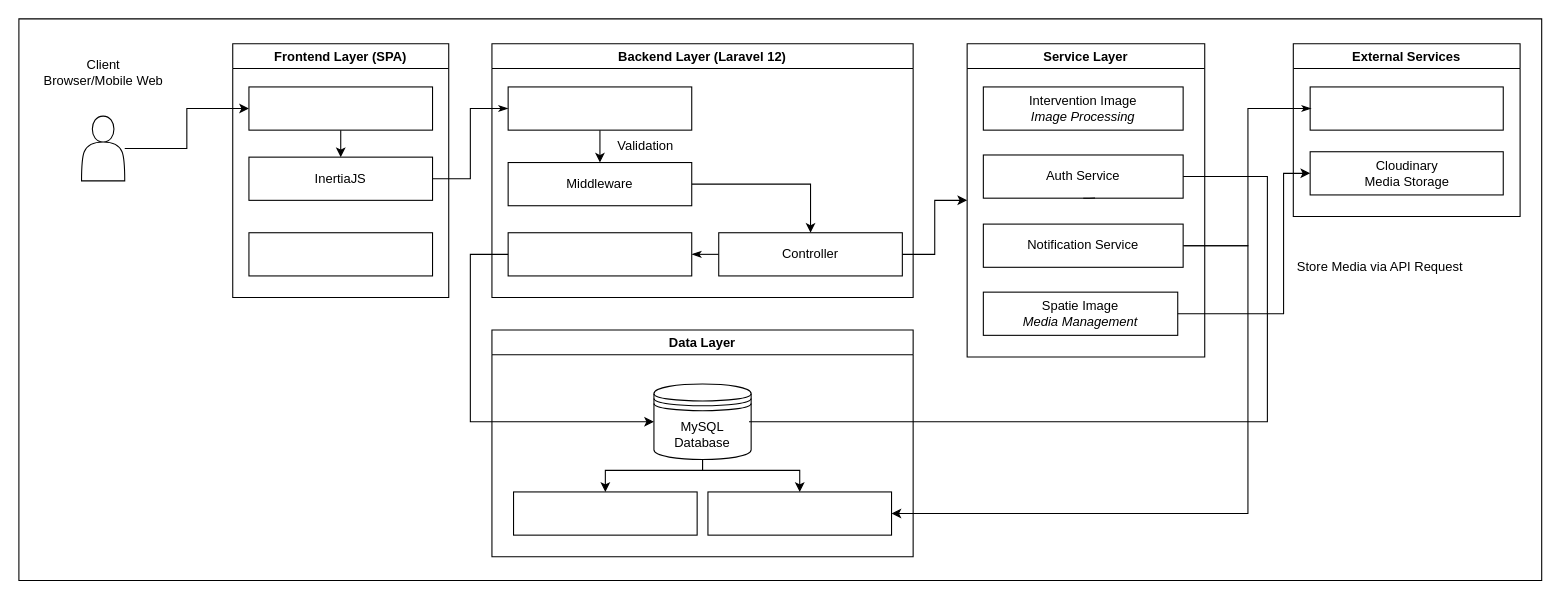
This 1561x599 diagram has some shape labels left out. Here are the shapes that lost their labels. From the top down, the centre of each, then its label:
At pixel 340 108: "ReactJS".
At pixel 599 108: "API Route".
At pixel 1406 108: "Email Services Memory Reminder Notifications".
At pixel 340 254: "TailwindCSS".
At pixel 599 254: "Models".
At pixel 604 513: "Redis Cache".
At pixel 799 513: "Redis Queue".
